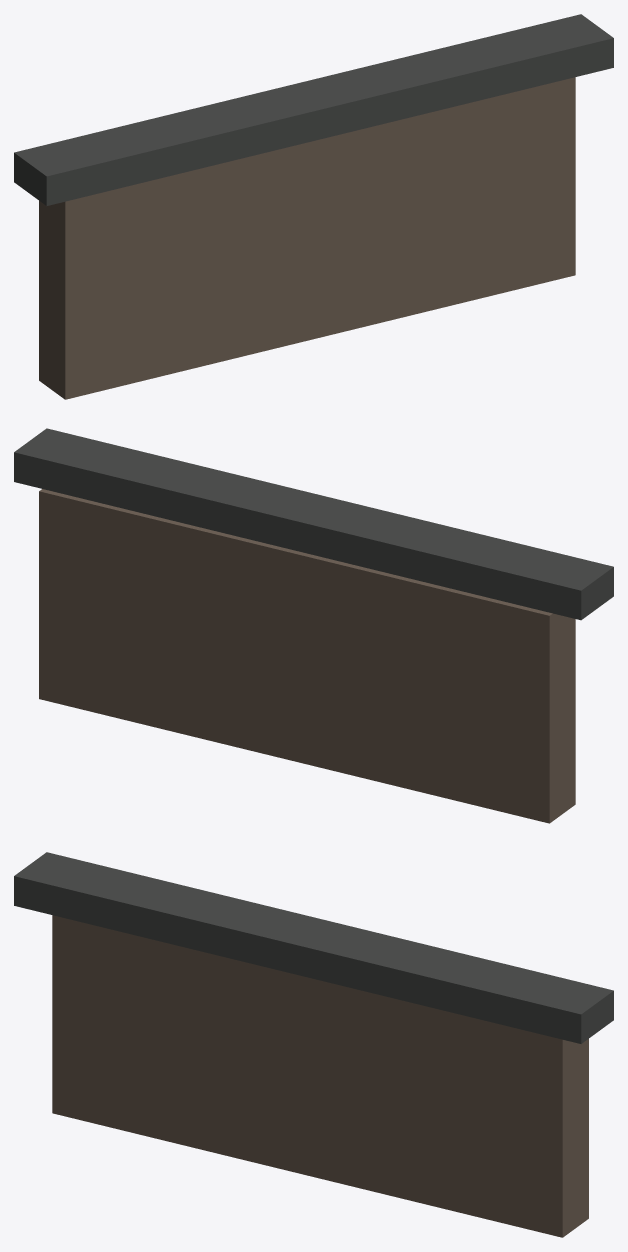
The model's file is hd2d_market_prop_signboard.glb.
The picture shows the model from 3 angles, top to bottom: view 1: azimuth 30°, elevation 25°; view 2: azimuth 150°, elevation 25°; view 3: azimuth 330°, elevation 25°; orthographic projection.
Visible parts, largest first — view 1: ShopSignBoard, ShopSignTrimTop; view 2: ShopSignBoard, ShopSignTrimTop; view 3: ShopSignBoard, ShopSignTrimTop.
Part boxes in pixels (x1,y1,x2,y2): ShopSignBoard: (39, 77, 575, 399); ShopSignTrimTop: (14, 14, 613, 205); ShopSignBoard: (39, 489, 575, 823); ShopSignTrimTop: (14, 428, 613, 620); ShopSignBoard: (52, 915, 588, 1237); ShopSignTrimTop: (14, 852, 613, 1043).
Bounding box in the file's own units: 1 × 0.4 × 0.11.
